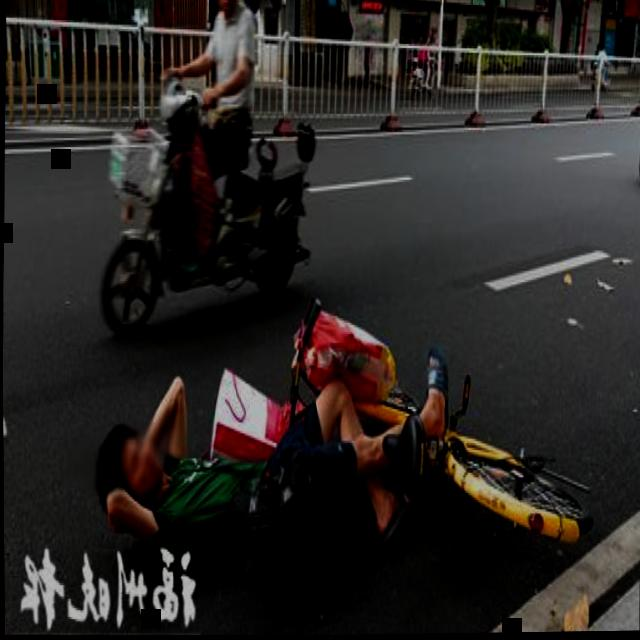Fall-Detected: (97, 313, 455, 598)
